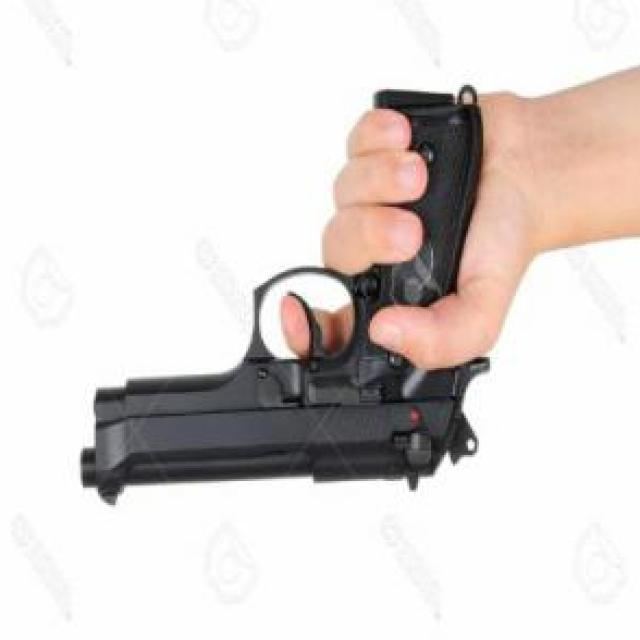pistol: (78, 84, 491, 509)
